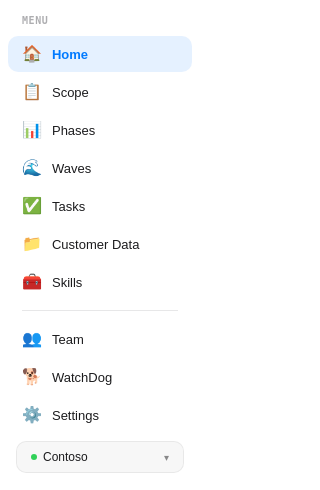
it: DashboardSidebar › opens project dropdown on switcher click
Click the button with test id "sidebar-project-switcher". click: {"x": 100, "y": 457}
box: x1=16 y1=441 x2=184 y2=473
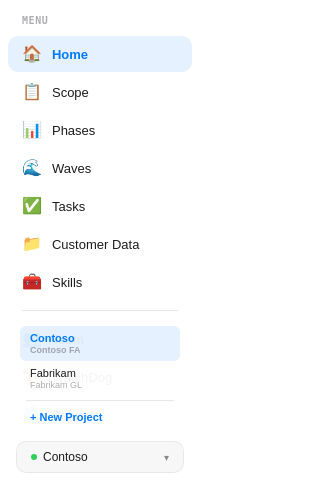
Now the element with test id "sidebar-project-dropdown" is shown, box x1=16 y1=322 x2=184 y2=433
